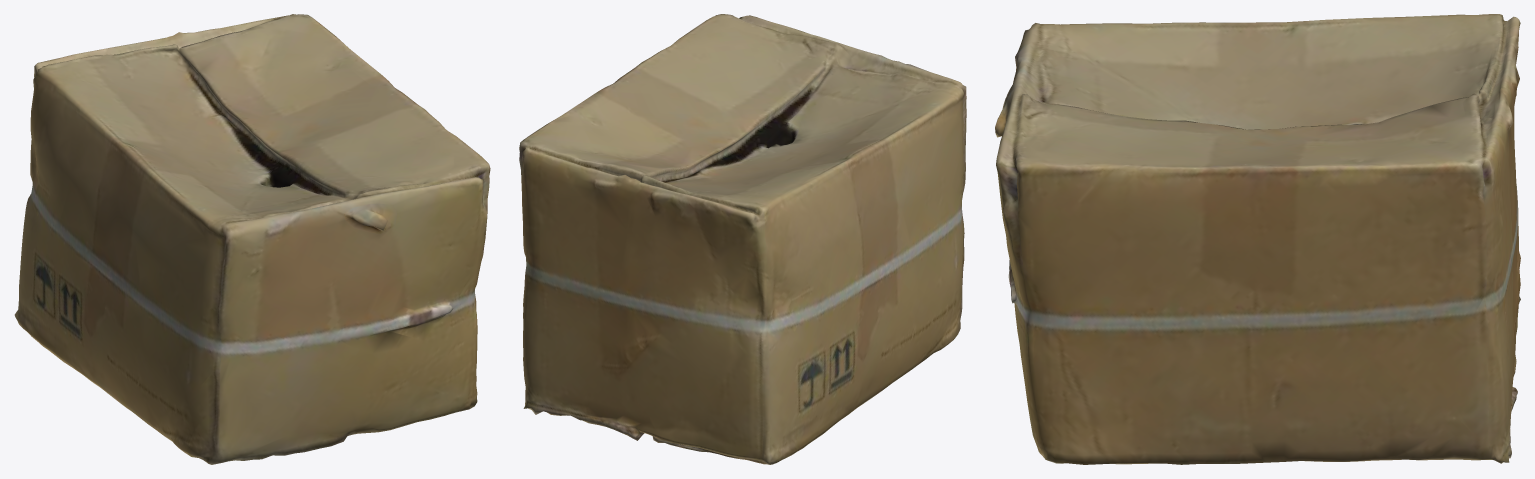
The model's file is cardboard_box.glb.
The picture shows the model from 3 angles, left to right: view 1: azimuth 30°, elevation 25°; view 2: azimuth 150°, elevation 25°; view 3: azimuth 270°, elevation 25°; orthographic projection. The views are drawn at different scales.
Parts seen in each view (by area): view 1: cardboard_box_01; view 2: cardboard_box_01; view 3: cardboard_box_01.
Part boxes in pixels (left/top/right/bottom): cardboard_box_01: left=14, top=14, right=490, bottom=464; cardboard_box_01: left=519, top=14, right=966, bottom=464; cardboard_box_01: left=995, top=14, right=1520, bottom=464.
Bounding box in the file's own units: 0.387 × 0.3418 × 0.5159.
1 material, 1 textured.
